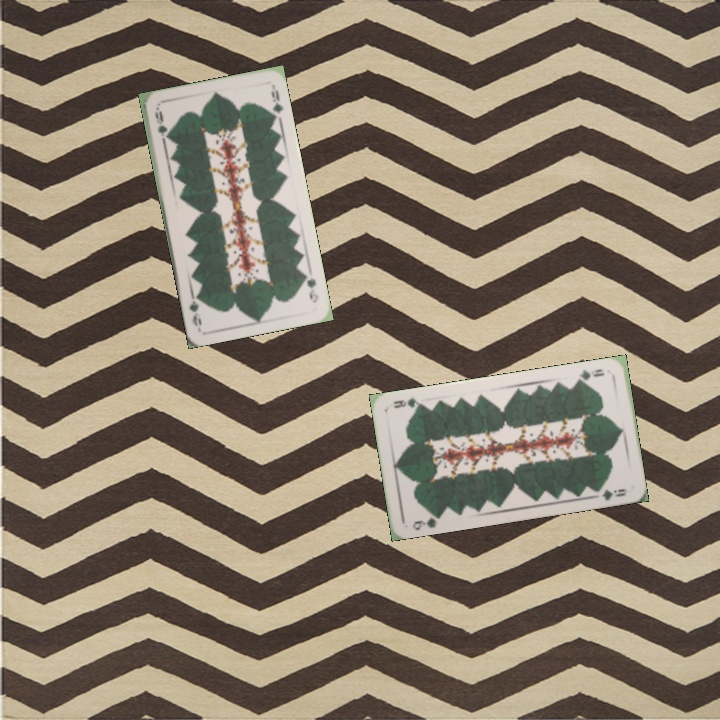G9: (408, 509, 444, 533), (300, 268, 321, 305), (151, 105, 169, 145), (572, 365, 607, 385)
